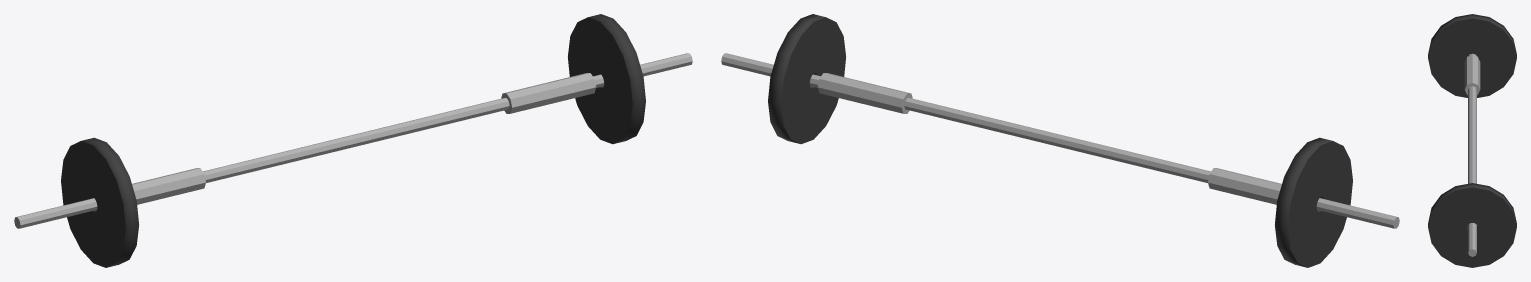
Rendered from Barbell Optimised.fbx.
3 views of the same model, side by side, from view 1: azimuth 30°, elevation 25°; view 2: azimuth 150°, elevation 25°; view 3: azimuth 270°, elevation 25° (orthographic). The views are drawn at different scales.
Visible parts, largest first — view 1: Barbell_1; view 2: Barbell_1; view 3: Barbell_1.
Boxes of the visible parts, x1,y1,x2,y2 form: Barbell_1: (14,14,692,267); Barbell_1: (721,14,1399,267); Barbell_1: (1428,14,1516,267).
Bounding box in the file's own units: 188 × 31.55 × 31.55.
